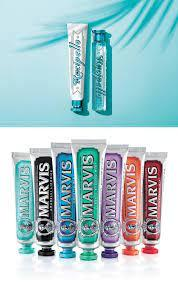toothpaste: (71, 139, 103, 265), (31, 145, 54, 259), (65, 20, 89, 119), (12, 150, 34, 251), (103, 143, 122, 258), (148, 151, 166, 268), (125, 145, 143, 257), (53, 143, 70, 261)
